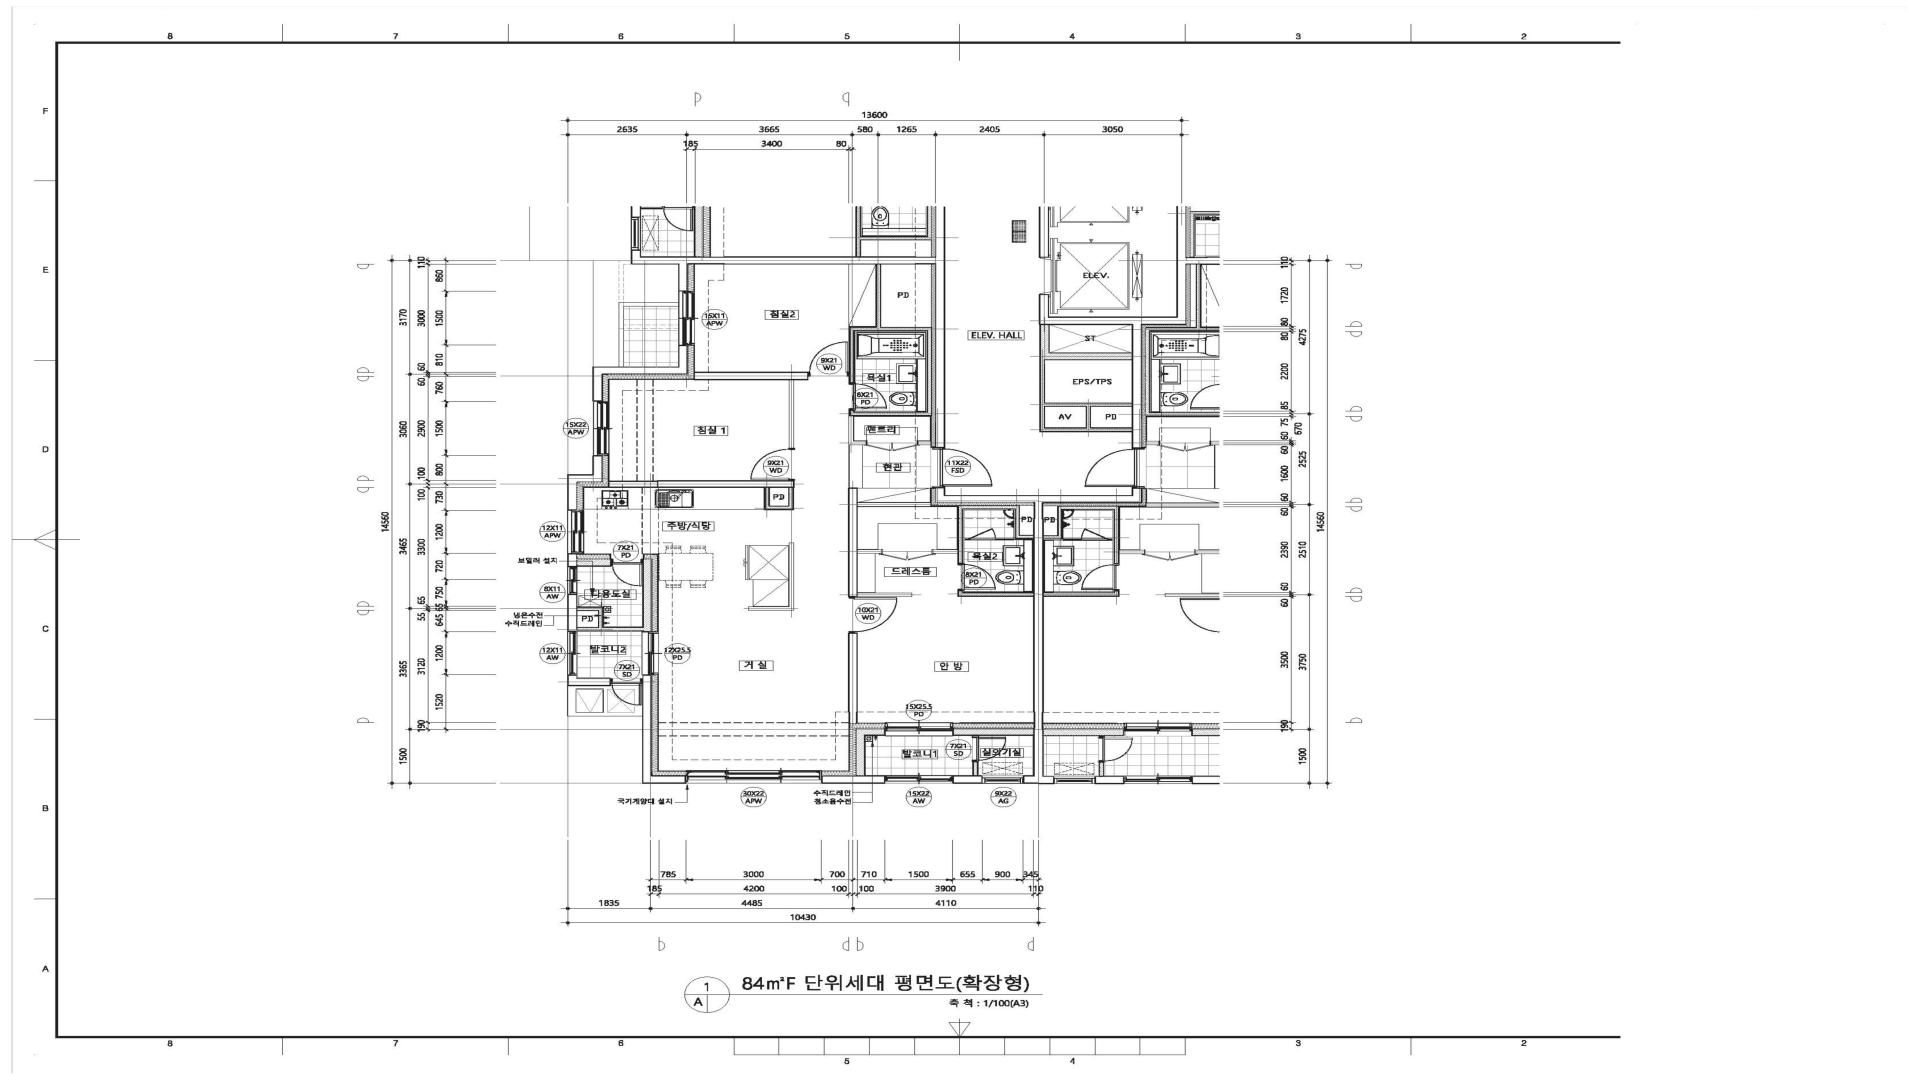door: (940, 448, 993, 487), (852, 597, 899, 632), (808, 342, 848, 376), (749, 448, 791, 480), (961, 564, 996, 591), (853, 384, 887, 409), (612, 562, 642, 587), (976, 737, 1006, 761), (612, 682, 641, 705), (968, 527, 997, 541)
wall: (935, 487, 1142, 785), (1039, 206, 1187, 448), (592, 345, 688, 401), (642, 675, 686, 783), (748, 542, 794, 611), (1044, 324, 1131, 360), (630, 256, 935, 265), (935, 206, 945, 448), (567, 456, 604, 510), (856, 728, 885, 775), (848, 488, 858, 597), (658, 480, 795, 488), (694, 372, 808, 381), (848, 633, 857, 723), (642, 554, 651, 632), (953, 728, 1034, 736), (567, 674, 612, 687), (848, 417, 868, 446), (1039, 324, 1044, 433), (1039, 206, 1050, 258), (957, 591, 1034, 597), (822, 775, 885, 783), (1044, 427, 1131, 433), (848, 411, 928, 417), (567, 593, 578, 632), (957, 505, 964, 564), (857, 502, 931, 508), (609, 480, 658, 488), (849, 327, 856, 384), (789, 381, 794, 448), (927, 327, 931, 417), (1044, 402, 1131, 406), (618, 302, 624, 367), (876, 264, 881, 327), (857, 592, 913, 597), (855, 327, 927, 331), (567, 687, 576, 716), (576, 712, 642, 716), (678, 264, 687, 290), (952, 777, 982, 785), (578, 559, 612, 566), (963, 505, 1019, 509), (624, 302, 678, 306), (604, 626, 642, 632), (1014, 509, 1019, 541), (764, 488, 770, 510), (599, 607, 604, 632), (857, 549, 882, 554), (567, 554, 578, 566), (789, 488, 794, 510), (1085, 406, 1091, 427), (578, 626, 599, 632), (578, 607, 599, 612), (972, 761, 978, 777), (932, 550, 957, 554), (916, 440, 931, 446), (770, 506, 789, 510), (1019, 534, 1034, 538), (997, 538, 1014, 541), (848, 409, 855, 411), (964, 538, 968, 541)
window: (686, 770, 822, 783), (885, 723, 953, 737), (678, 290, 695, 345), (592, 401, 609, 456), (641, 632, 659, 675), (567, 510, 584, 554), (885, 775, 952, 783), (567, 632, 578, 674), (567, 566, 578, 593), (982, 778, 1022, 783)
